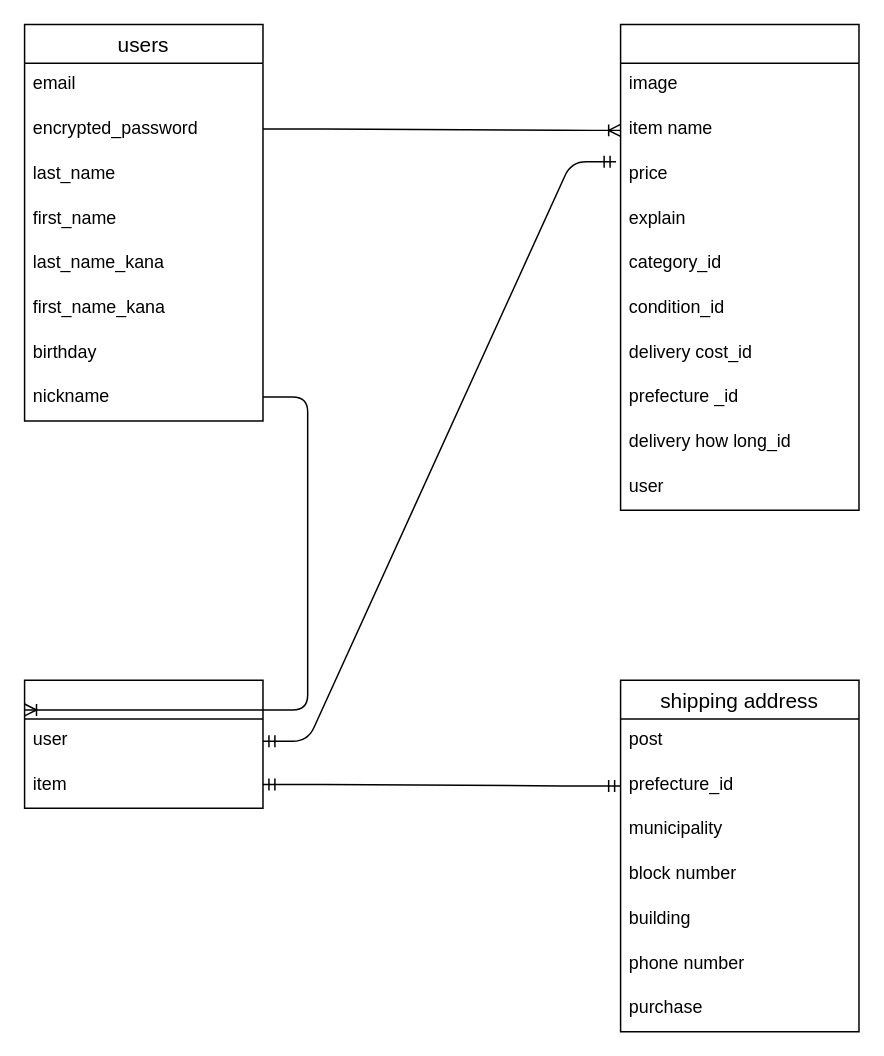
Some shapes in this 884 by 1056 pixel diagram are drawn without their labels. Here are the shapes that lost their labels. From the top down, the box of each, then its label:
(619, 23, 859, 510): items
(23, 679, 263, 808): purchases
